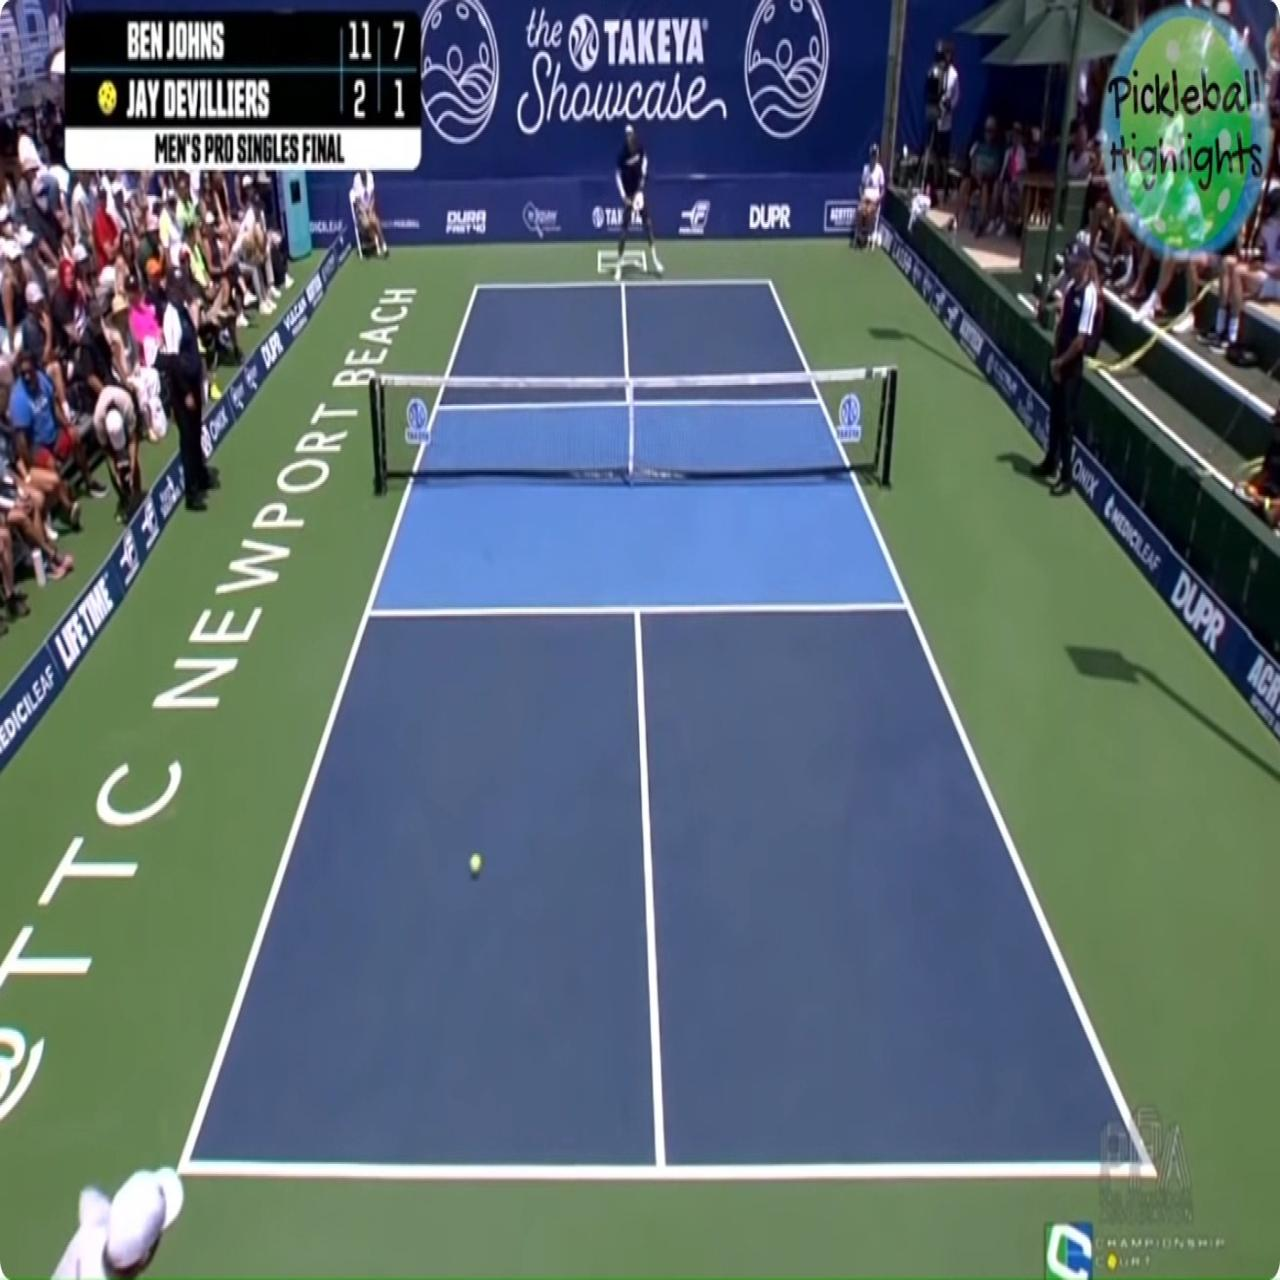pickleball: (469, 851, 484, 877)
